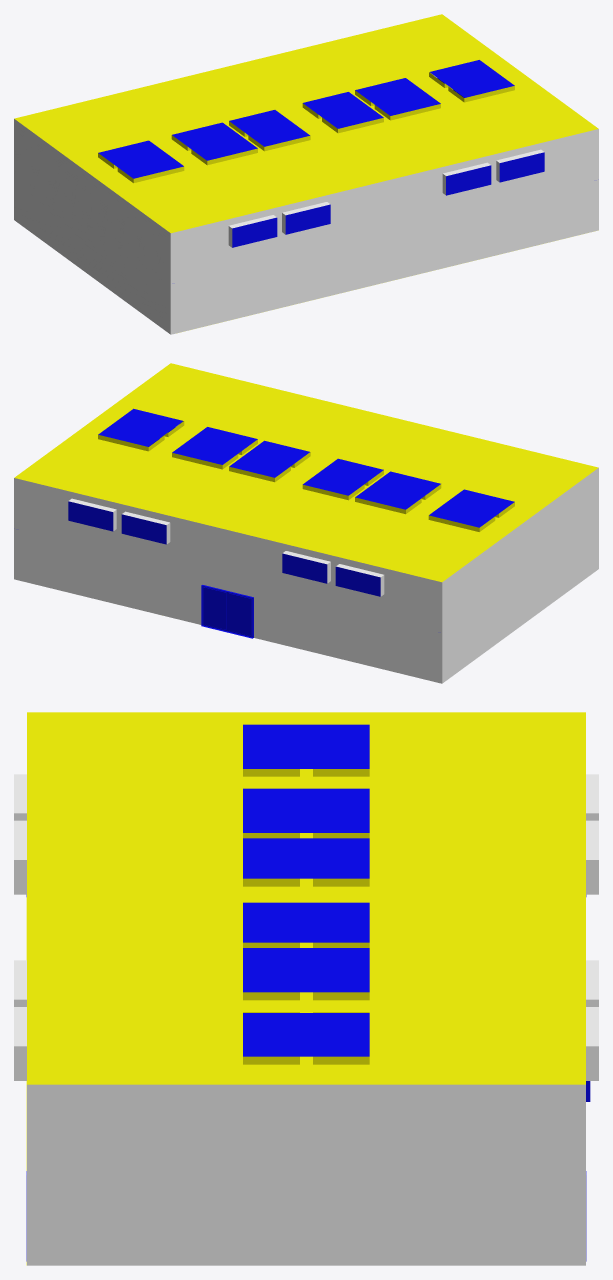
Rendered from gallery.glb.
3 views of the same model, one above another, from view 1: azimuth 30°, elevation 25°; view 2: azimuth 150°, elevation 25°; view 3: azimuth 270°, elevation 25° (orthographic). The views are drawn at different scales.
Visible parts, largest first — view 1: walls1, cieling1, Glass_10, Glass_11, Glass_14, Glass_15, Glass_12, Glass_13, Glass_06, Glass_07, Glass_09, Glass_08; view 2: cieling1, walls1, Glass_01, Glass_10, Glass_11, Glass_14, Glass_15, Glass_12, Glass_13, Glass_02, Glass_03, Glass_04 (+2 smaller); view 3: cieling1, walls1, Glass_10, Glass_11, Glass_14, Glass_15, Glass_12, Glass_13.
Part boxes in pixels (x1=…): walls1: x1=14, y1=75, x2=598, y2=334; cieling1: x1=14, y1=14, x2=598, y2=233; Glass_10: x1=98, y1=140, x2=183, y2=178; Glass_11: x1=172, y1=122, x2=257, y2=160; Glass_14: x1=355, y1=78, x2=440, y2=115; Glass_15: x1=430, y1=60, x2=514, y2=97; Glass_12: x1=229, y1=110, x2=309, y2=146; Glass_13: x1=303, y1=92, x2=383, y2=128; Glass_06: x1=499, y1=152, x2=544, y2=182; Glass_07: x1=446, y1=165, x2=491, y2=195; Glass_09: x1=285, y1=204, x2=330, y2=234; Glass_08: x1=232, y1=217, x2=277, y2=247; cieling1: x1=14, y1=363, x2=598, y2=582; walls1: x1=14, y1=424, x2=598, y2=683; Glass_01: x1=203, y1=587, x2=251, y2=635; Glass_10: x1=429, y1=489, x2=514, y2=527; Glass_11: x1=355, y1=471, x2=440, y2=509; Glass_14: x1=172, y1=427, x2=257, y2=464; Glass_15: x1=98, y1=408, x2=182, y2=446; Glass_12: x1=303, y1=458, x2=383, y2=495; Glass_13: x1=229, y1=440, x2=309, y2=477; Glass_02: x1=121, y1=514, x2=166, y2=544; Glass_03: x1=68, y1=501, x2=113, y2=531; Glass_04: x1=282, y1=553, x2=327, y2=583; cieling1: x1=27, y1=712, x2=585, y2=1084; walls1: x1=14, y1=774, x2=598, y2=1265; Glass_10: x1=243, y1=724, x2=369, y2=768; Glass_11: x1=243, y1=788, x2=369, y2=832; Glass_14: x1=243, y1=948, x2=369, y2=992; Glass_15: x1=243, y1=1013, x2=369, y2=1056; Glass_12: x1=243, y1=838, x2=369, y2=878; Glass_13: x1=243, y1=902, x2=369, y2=942.
Size of the model in its own units: 26.92 by 6.36 by 17.86.
